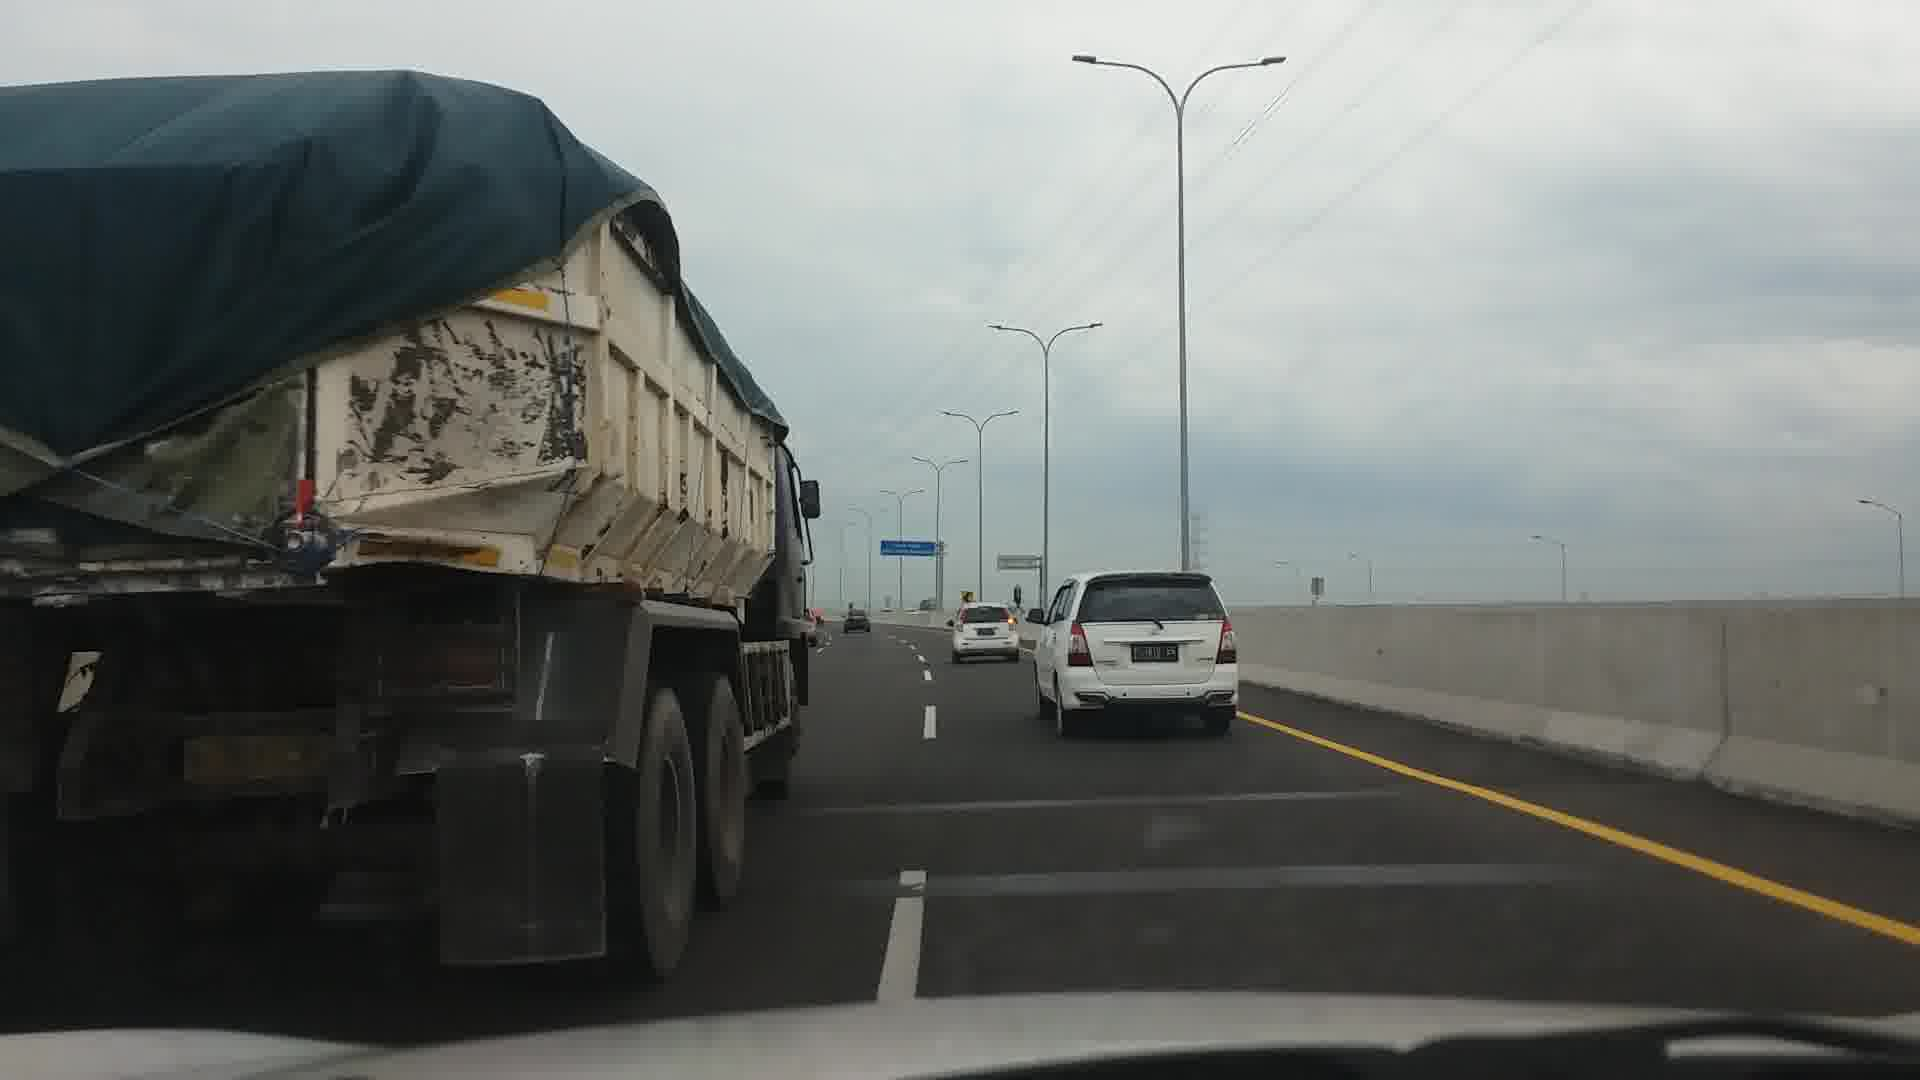plate_positive: (1131, 644, 1180, 663), (977, 629, 994, 636)
